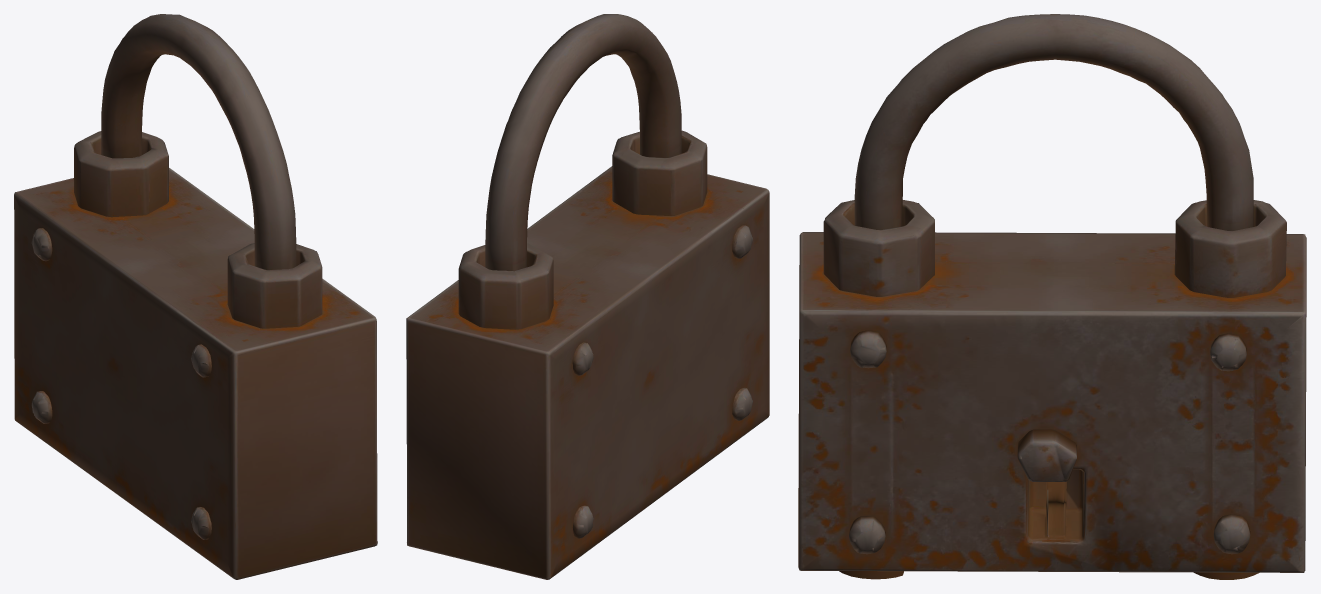
Rendered from Prop_Padlock.fbx.
The picture shows the model from 3 angles, left to right: view 1: azimuth 30°, elevation 25°; view 2: azimuth 150°, elevation 25°; view 3: azimuth 270°, elevation 25°; orthographic projection. The views are drawn at different scales.
Visible parts, largest first — view 1: Prop_Padlock_Body, Prop_Padlock_Thanh_Lock; view 2: Prop_Padlock_Body, Prop_Padlock_Thanh_Lock; view 3: Prop_Padlock_Body, Prop_Padlock_Thanh_Lock.
Part boxes in pixels (x1,y1,x2,y2): Prop_Padlock_Body: (14, 131, 377, 579); Prop_Padlock_Thanh_Lock: (101, 14, 316, 579); Prop_Padlock_Body: (406, 130, 769, 579); Prop_Padlock_Thanh_Lock: (485, 14, 681, 271); Prop_Padlock_Body: (798, 200, 1306, 579); Prop_Padlock_Thanh_Lock: (854, 14, 1253, 535).
Bounding box in the file's own units: 7.95 × 20 × 17.34.
